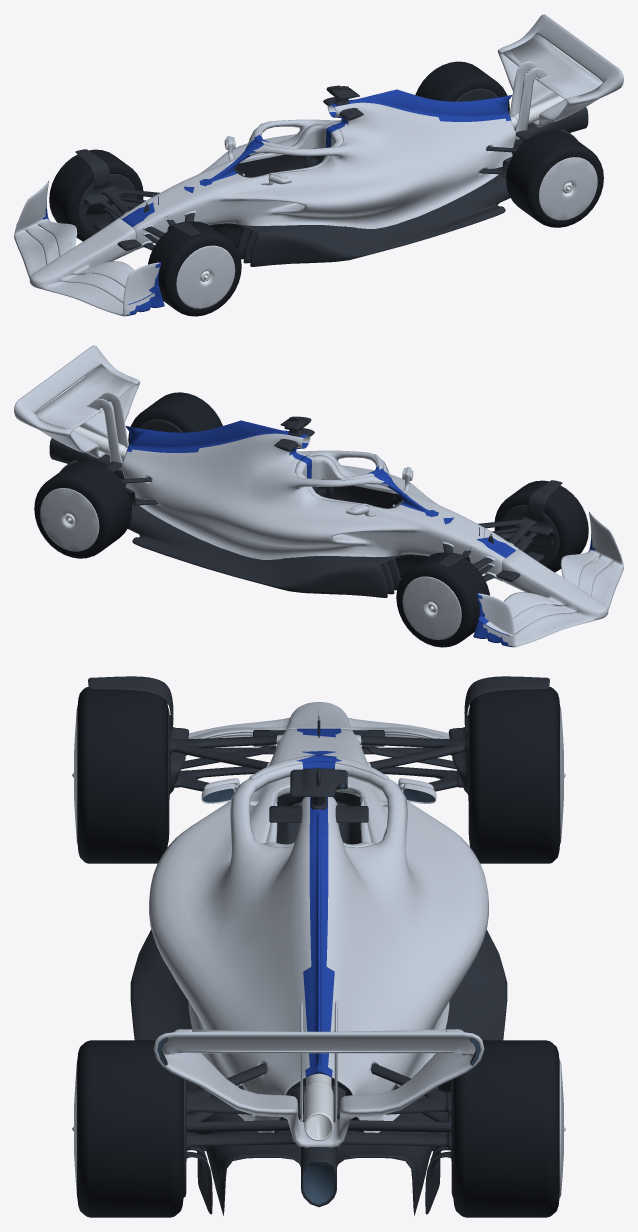
Rendered from racing-car.glb.
3 views of the same model, one above another, from view 1: azimuth 30°, elevation 25°; view 2: azimuth 150°, elevation 25°; view 3: azimuth 270°, elevation 25° (orthographic). The views are drawn at different scales.
Visible parts, largest first — view 1: Racing car; view 2: Racing car; view 3: Racing car.
Part boxes in pixels (x1,y1,x2,y2): Racing car: (14, 14, 623, 316); Racing car: (14, 345, 623, 647); Racing car: (72, 676, 565, 1217).
Bounding box in the file's own units: 5.18 × 1.24 × 2.01.
